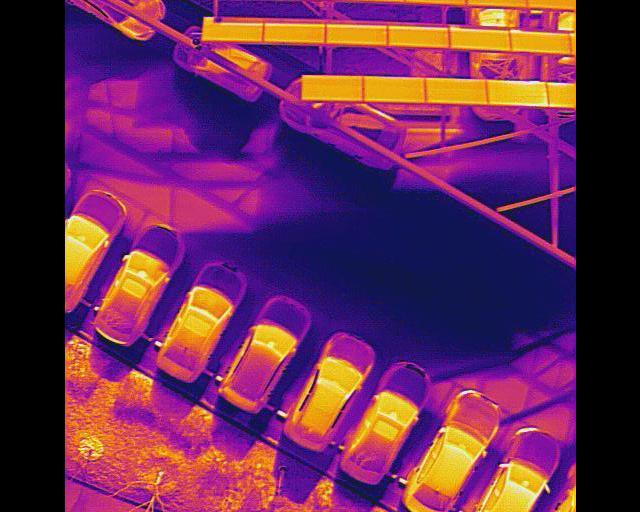No-Anomaly: (422, 78, 492, 105), (359, 78, 428, 105), (261, 20, 328, 46), (300, 76, 365, 102), (383, 24, 450, 49), (323, 23, 389, 48), (448, 26, 513, 51), (507, 30, 572, 54), (201, 23, 262, 44), (462, 0, 528, 6)
Unclassified: (483, 79, 550, 107), (523, 0, 576, 8), (403, 0, 468, 5)
